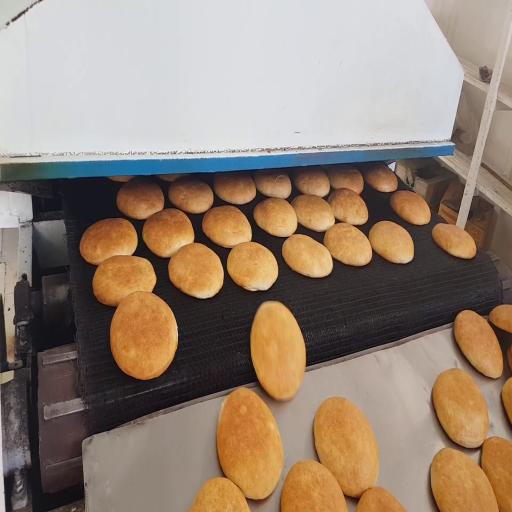bread: (217, 388, 283, 499), (314, 398, 378, 497), (111, 292, 177, 379), (251, 302, 306, 400), (432, 369, 489, 447), (431, 448, 498, 511), (281, 460, 347, 511), (454, 311, 503, 378), (93, 256, 156, 306), (168, 243, 223, 298), (80, 219, 137, 265), (227, 242, 278, 291), (143, 209, 194, 257), (482, 438, 511, 511), (282, 235, 332, 277), (324, 223, 372, 266), (202, 206, 251, 247), (190, 478, 249, 511), (117, 178, 164, 219), (369, 221, 414, 263), (254, 198, 297, 237), (168, 177, 213, 213), (291, 195, 334, 232), (432, 223, 476, 259), (328, 189, 368, 225), (213, 172, 256, 205), (391, 191, 430, 225), (356, 487, 406, 511), (293, 167, 330, 197), (254, 170, 291, 199), (326, 165, 363, 194), (364, 163, 397, 192), (489, 304, 511, 333), (502, 378, 511, 423), (158, 174, 188, 182), (108, 176, 133, 182), (507, 345, 511, 370)
